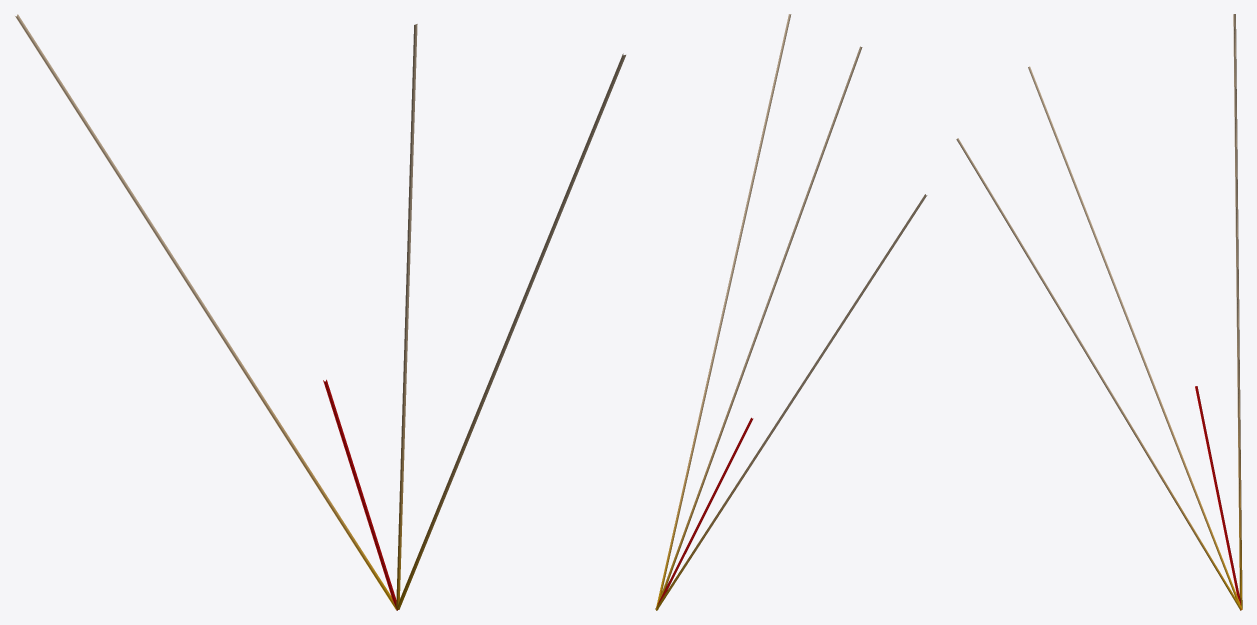
The model's file is sunVectors.gltf.
The picture shows the model from 3 angles, left to right: view 1: azimuth 30°, elevation 25°; view 2: azimuth 150°, elevation 25°; view 3: azimuth 270°, elevation 25°; orthographic projection. The views are drawn at different scales.
Parts seen in each view (by area): view 1: SunVectors; view 2: SunVectors; view 3: SunVectors.
Boxes of the visible parts, x1=… form: SunVectors: x1=15, y1=14, x2=625, y2=610; SunVectors: x1=655, y1=14, x2=927, y2=610; SunVectors: x1=956, y1=14, x2=1242, y2=610.
Size of the model in its own units: 4.24 by 7.35 by 3.83.
